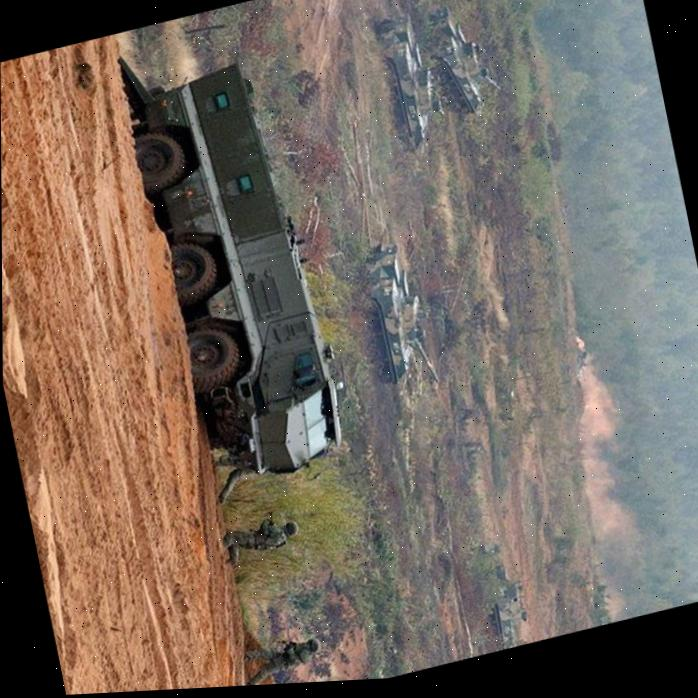person: (238, 630, 326, 686), (219, 510, 302, 566)
tank: (117, 14, 359, 498), (352, 234, 443, 397), (370, 6, 451, 157), (418, 0, 506, 124), (473, 536, 533, 653)
